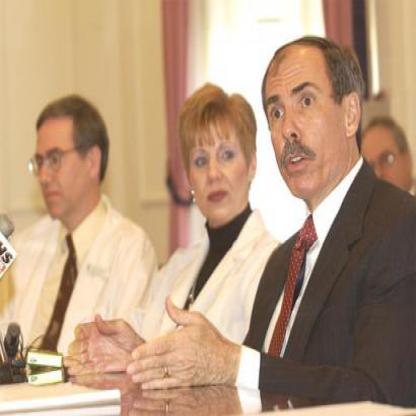face: (263, 42, 348, 203), (187, 98, 250, 225), (33, 105, 92, 223), (361, 124, 410, 212)
